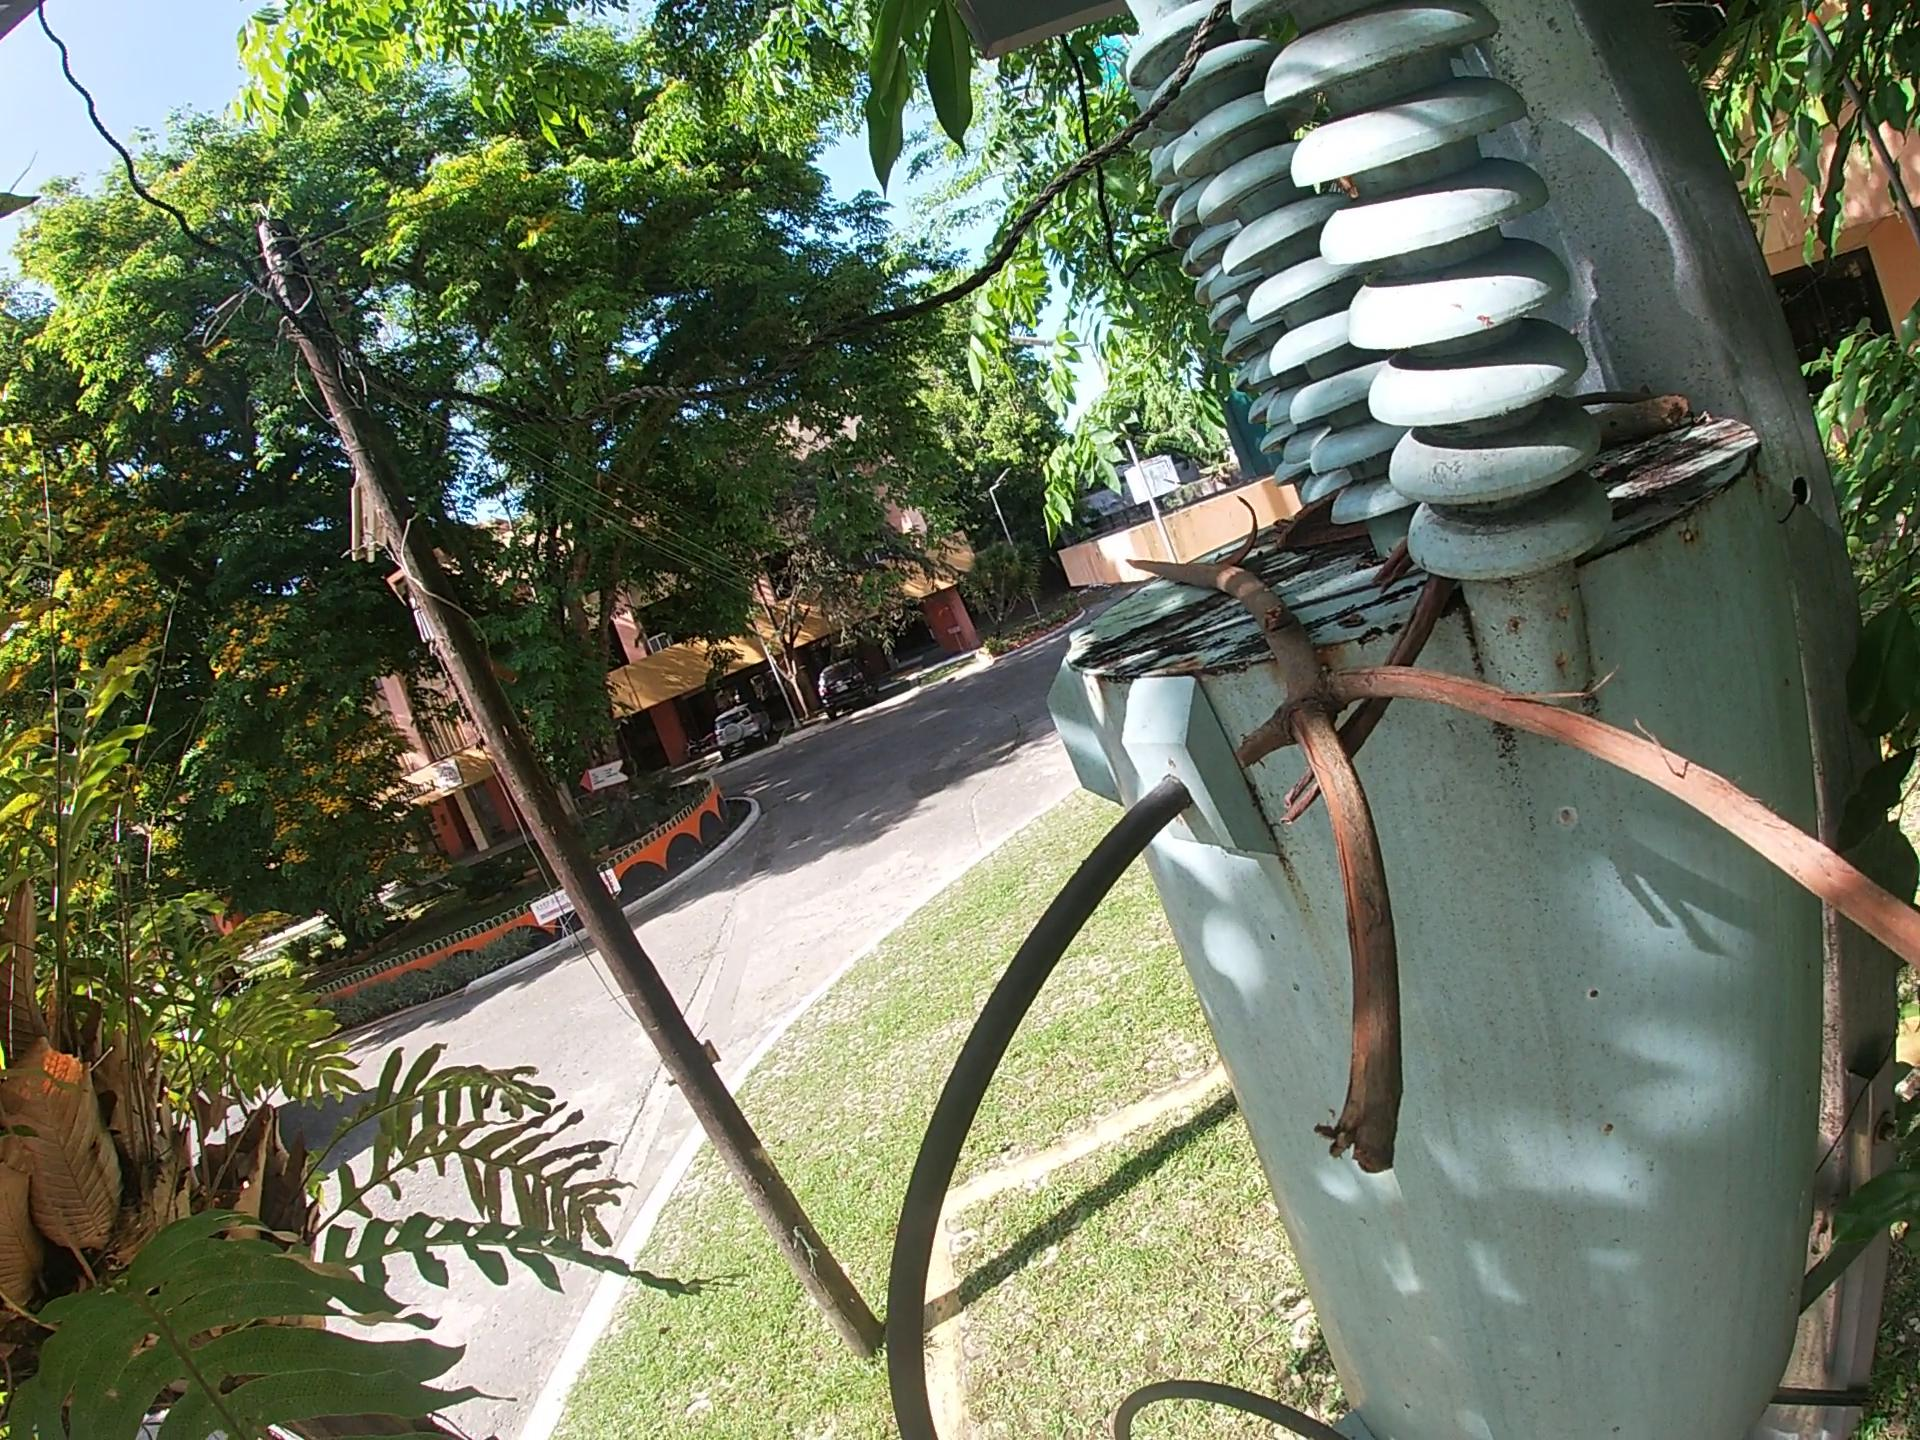mahogany fruit: (1271, 479, 1382, 557), (1220, 493, 1265, 570)
tree branch: (1120, 551, 1920, 1190), (1274, 535, 1463, 833), (1577, 386, 1701, 448)
